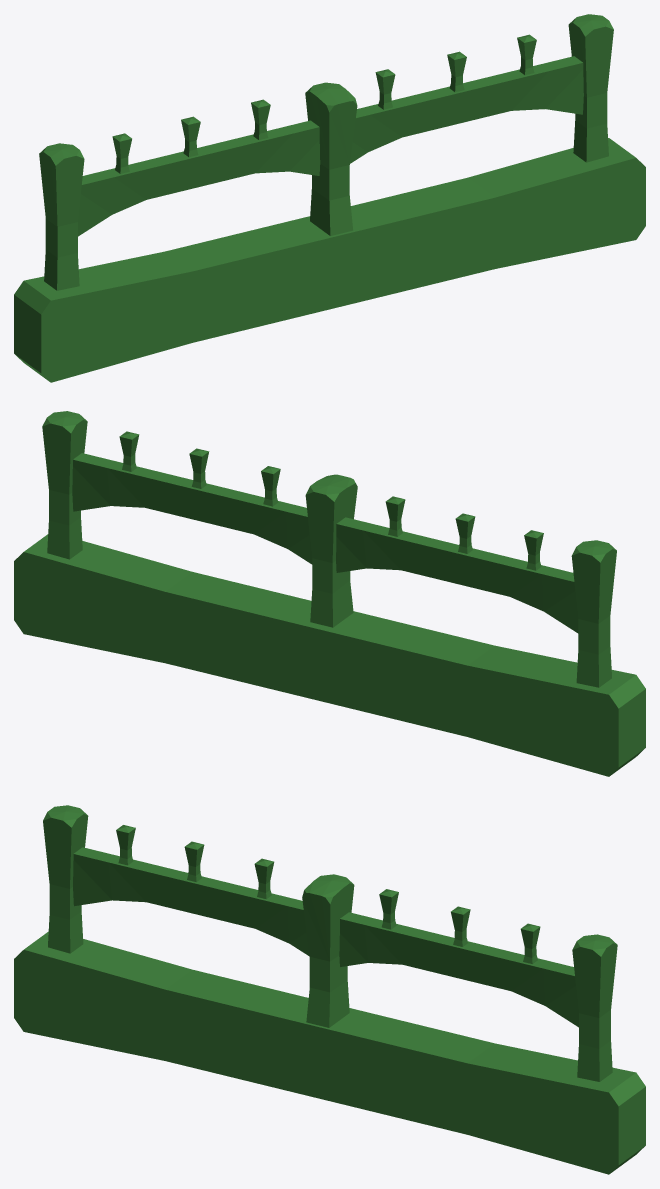
Rendered from L_brigde.FBX.
3 views of the same model, one above another, from view 1: azimuth 30°, elevation 25°; view 2: azimuth 150°, elevation 25°; view 3: azimuth 330°, elevation 25° (orthographic).
Parts seen in each view (by area): view 1: 对象1137; view 2: 对象1137; view 3: 对象1137.
Part boxes in pixels (x1=…): 对象1137: x1=14, y1=14, x2=645, y2=382; 对象1137: x1=14, y1=411, x2=645, y2=776; 对象1137: x1=14, y1=805, x2=645, y2=1174.
Bounding box in the file's own units: 5889 × 2004 × 468.
